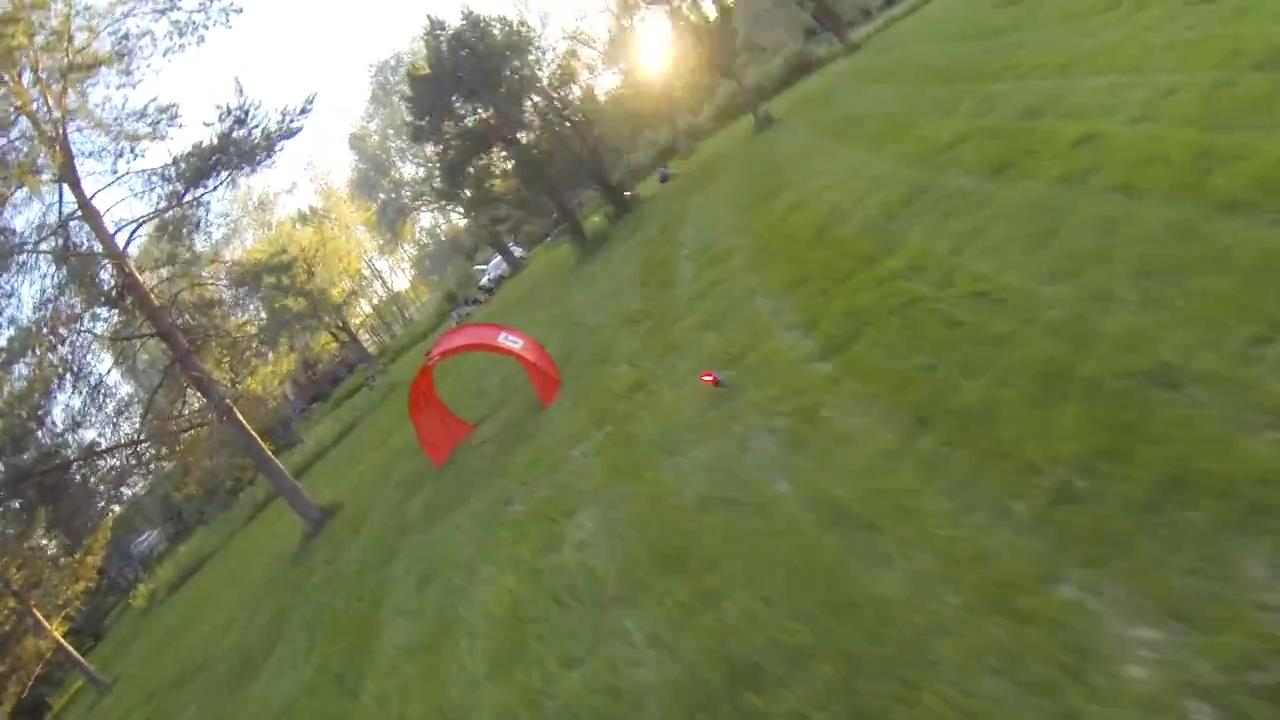gate: (406, 323, 566, 474)
